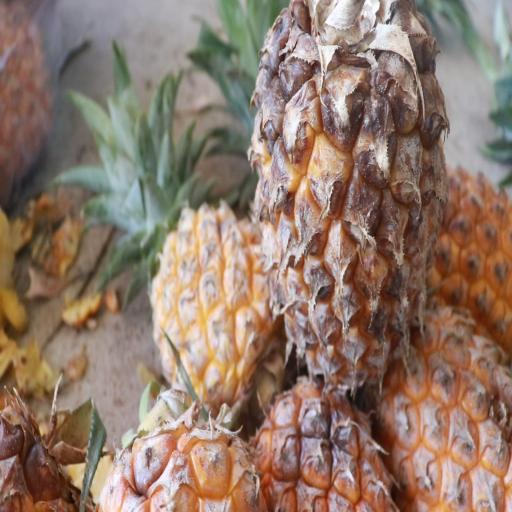Pineapple - v8 v1: (230, 0, 446, 404), (146, 74, 275, 414), (370, 318, 512, 512), (95, 372, 257, 512), (244, 363, 390, 512)
